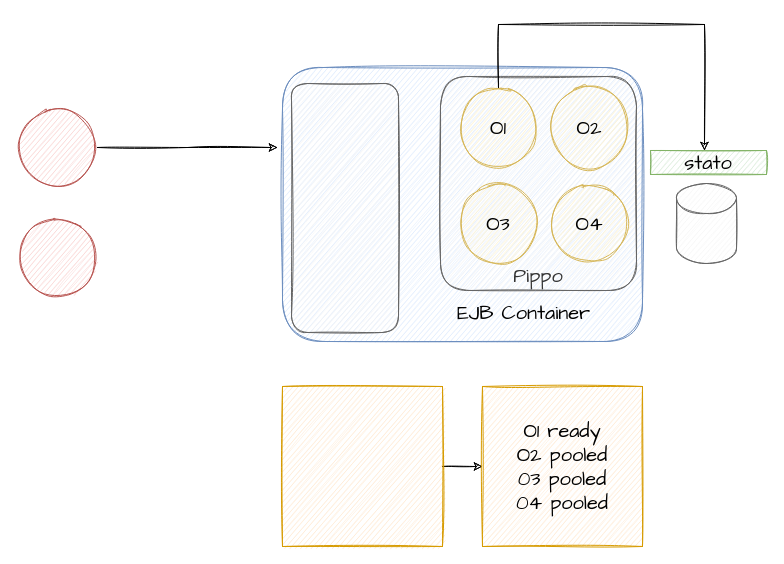
Some shapes in this 784 by 564 pixel diagram are drawn without their labels. Each missing label, with the box of its shape:
C1: (16, 106, 98, 188)
C2: (16, 216, 98, 298)
EJB Home EJB Object trasparenti: (290, 82, 398, 332)
O1 pooled O2 pooled 03 pooled 04 pooled: (282, 386, 442, 546)
